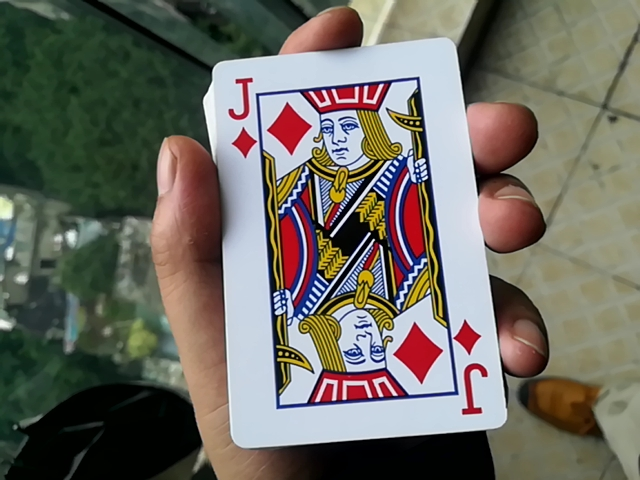fk j: (190, 42, 510, 440)
